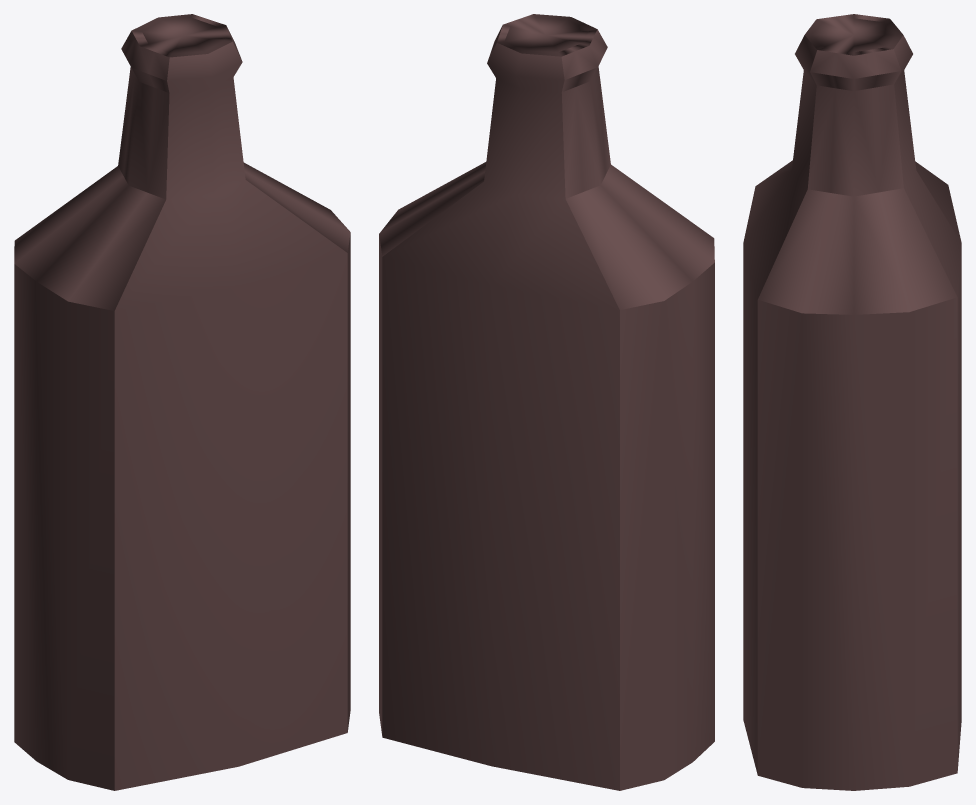
The model's file is flaske1_rosa.fbx.
3 renders of one model, left to right at view 1: azimuth 30°, elevation 25°; view 2: azimuth 150°, elevation 25°; view 3: azimuth 270°, elevation 25°, orthographic.
Visible parts, largest first — view 1: pCube14; view 2: pCube14; view 3: pCube14.
Part boxes in pixels (x1,y1,x2,y2): pCube14: (14, 14, 350, 790); pCube14: (379, 14, 714, 790); pCube14: (743, 14, 961, 790).
Bounding box in the file's own units: 1.3 × 2.92 × 0.8435.
